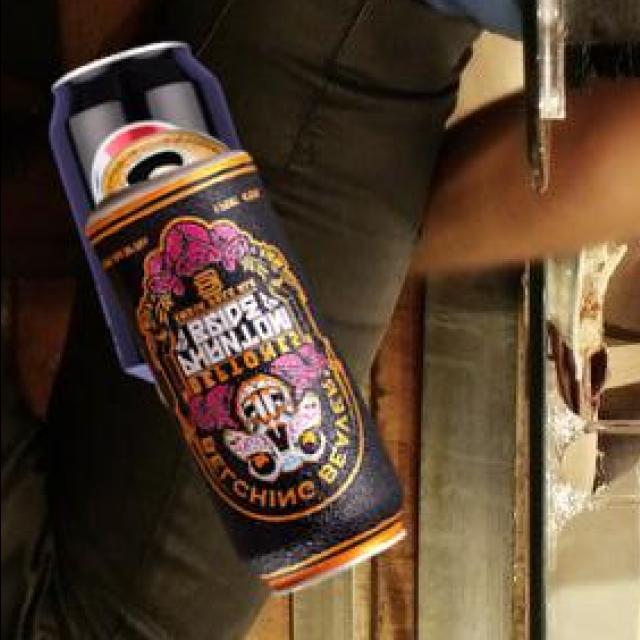logam: (87, 155, 407, 598), (53, 47, 244, 385), (101, 133, 233, 203)
